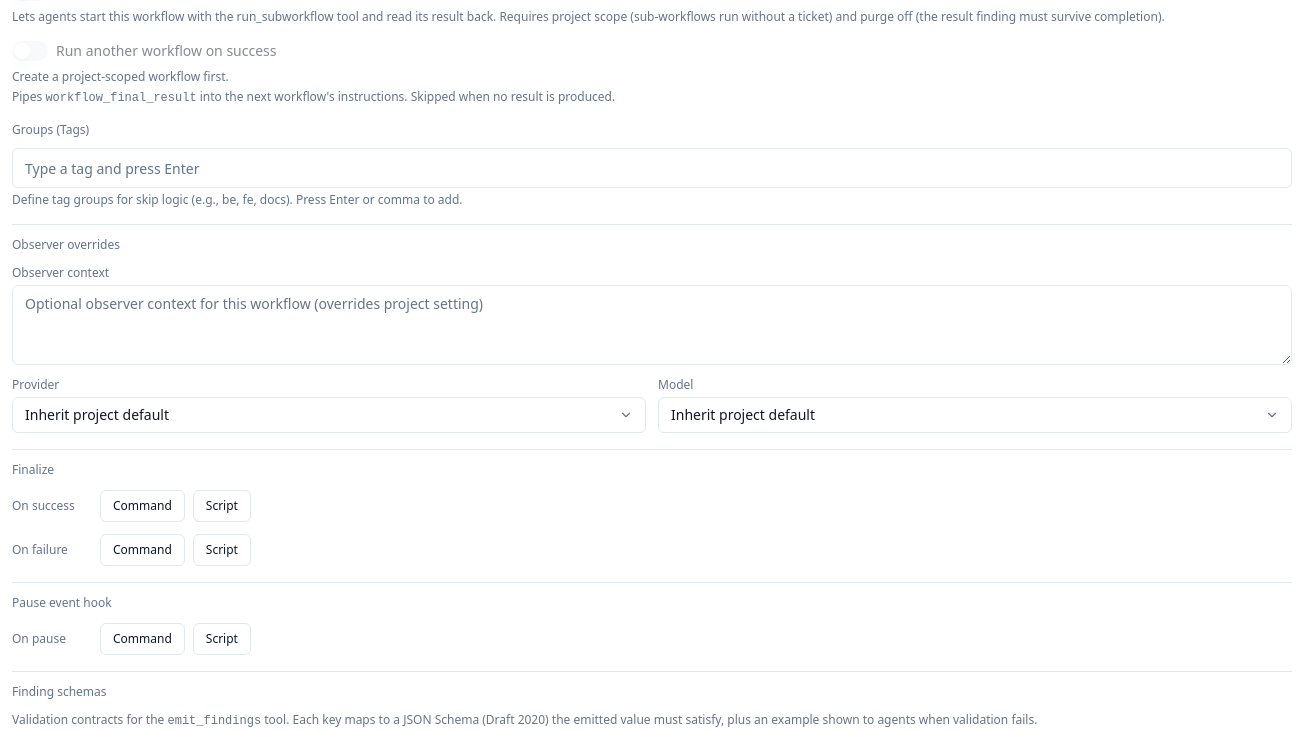
Test: WorkflowDefForm — Finalize section › command mode toggle › shows command input when Command button clicked for success slot
(page scrolled)
Click the 1st button "Command": coordinates (142, 506) [100, 490, 185, 522]
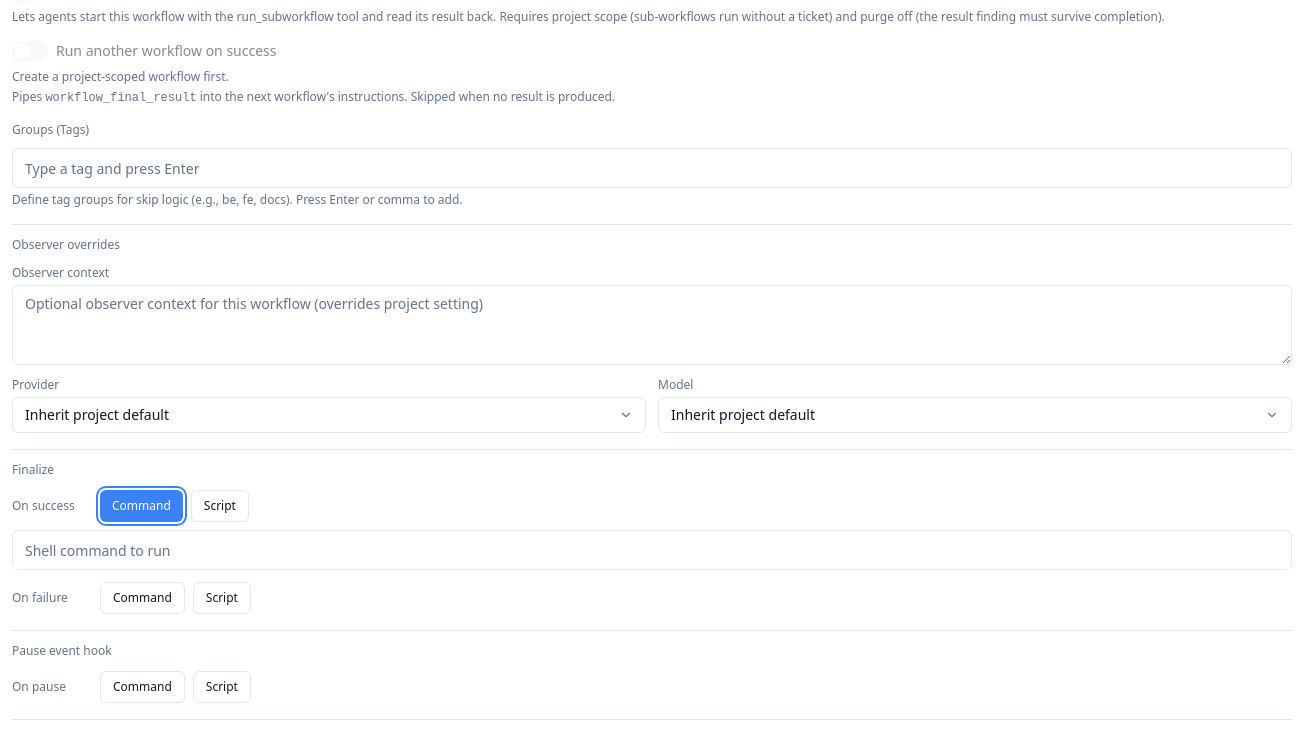
Now the field with placeholder "Shell command to run" is shown, box [12, 530, 1292, 570]
